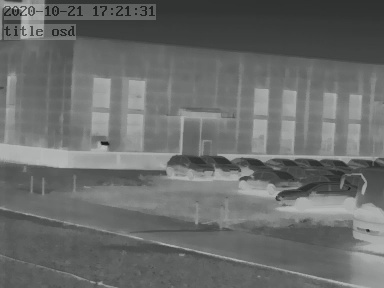vehicle: (277, 180, 359, 205), (237, 170, 299, 194), (164, 153, 214, 178), (204, 153, 242, 177), (232, 154, 270, 172), (345, 155, 381, 172), (295, 155, 327, 171), (319, 156, 351, 172), (263, 155, 296, 170)
